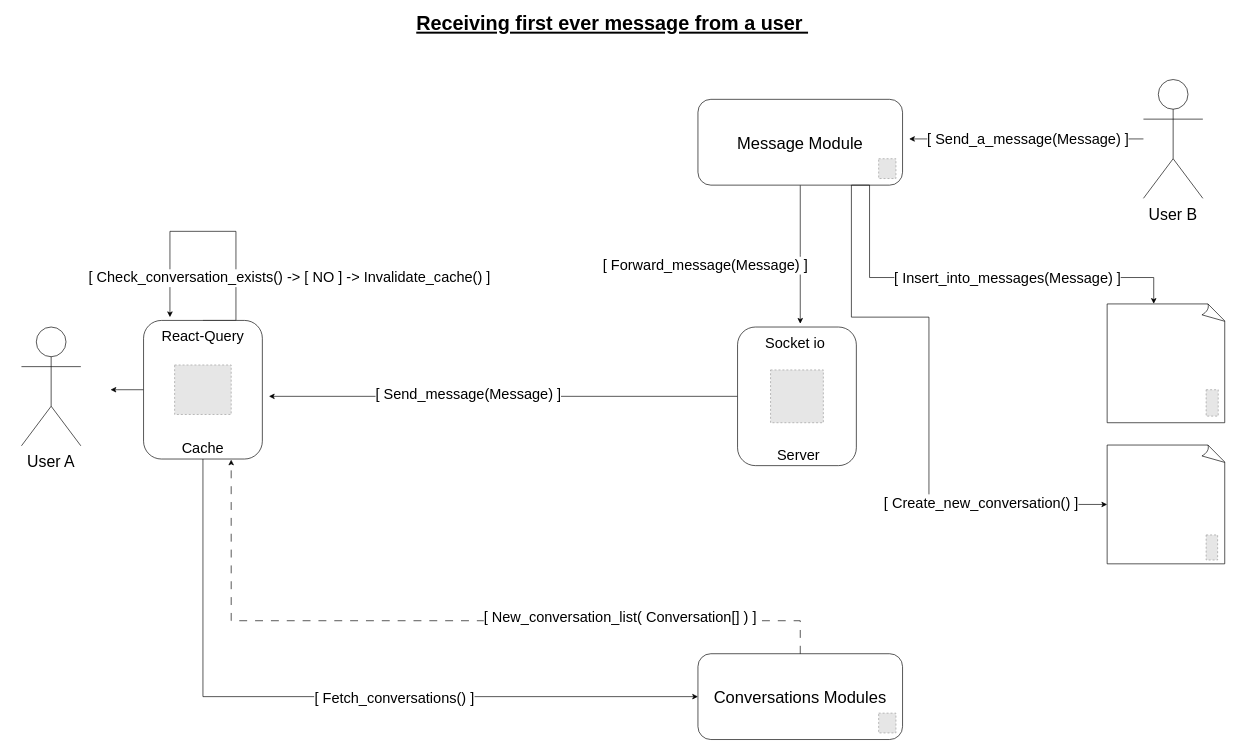
Image size: 1238x751. Some labels were removed from this diagram. Grey dashed boxes stand in for pictures. Here are the shapes that lost their labels. From the top down, the box of each, then its label:
(1106, 303, 1226, 423): Message Collection
(1106, 444, 1226, 564): Conversation Collection
